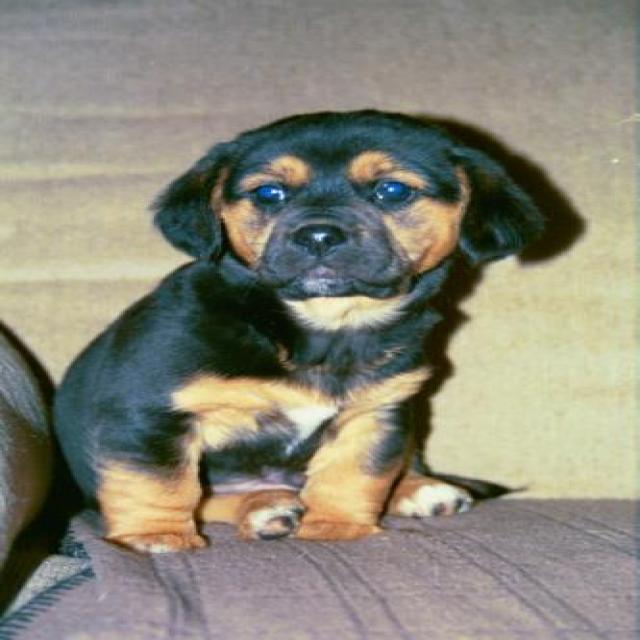Dogs: (50, 106, 548, 554)
